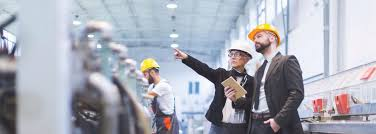Person_wearing_helmet: (250, 21, 281, 40), (220, 41, 251, 57)
